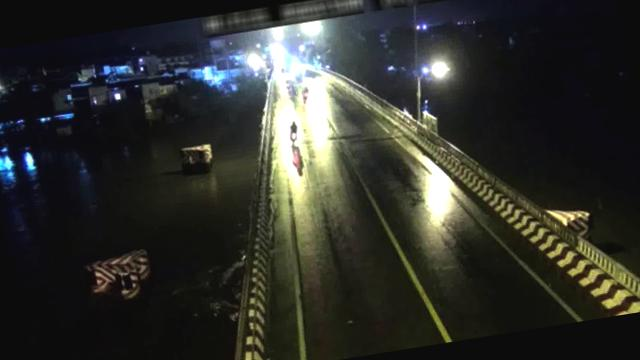Bike: (285, 118, 303, 148), (282, 75, 296, 98), (301, 86, 312, 105)
